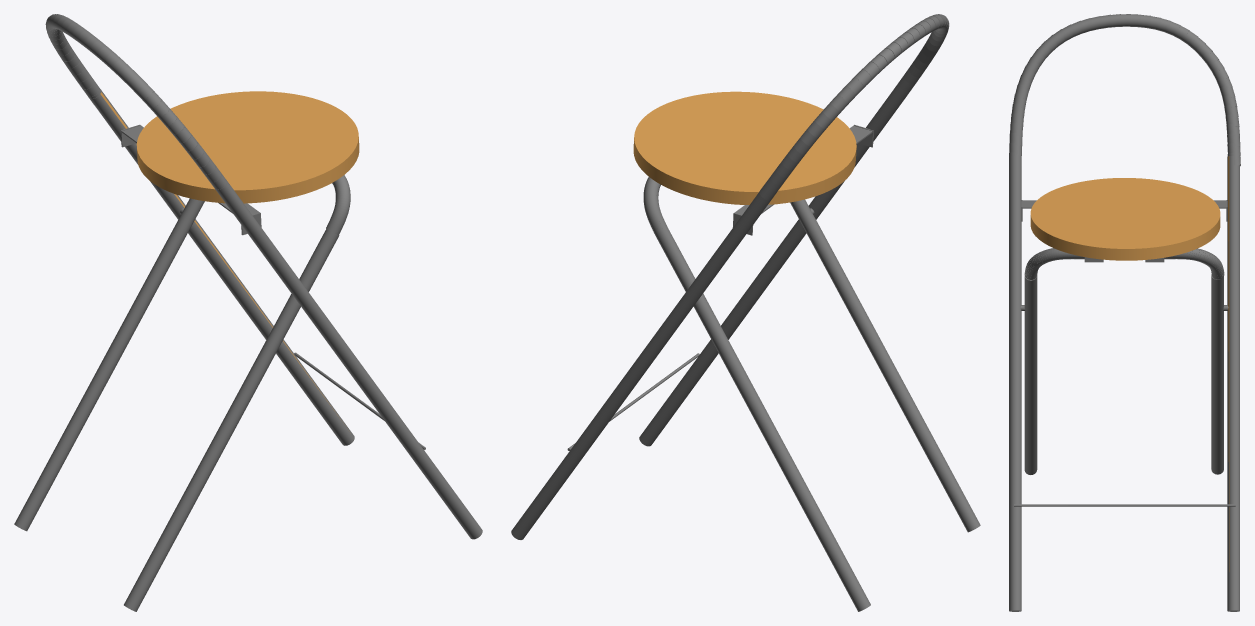
File: Model_Kitchen_Chair.fbx
3 renders of one model, left to right at view 1: azimuth 30°, elevation 25°; view 2: azimuth 150°, elevation 25°; view 3: azimuth 270°, elevation 25°, orthographic. The views are drawn at different scales.
Visible parts, largest first — view 1: uploads_files_20995_chaiseCuisine; view 2: uploads_files_20995_chaiseCuisine; view 3: uploads_files_20995_chaiseCuisine.
Part boxes in pixels (x1,y1,x2,y2): uploads_files_20995_chaiseCuisine: (14,14,482,611); uploads_files_20995_chaiseCuisine: (511,14,980,611); uploads_files_20995_chaiseCuisine: (1009,14,1240,611).
Bounding box in the file's own units: 61.73 × 91.82 × 41.74.
